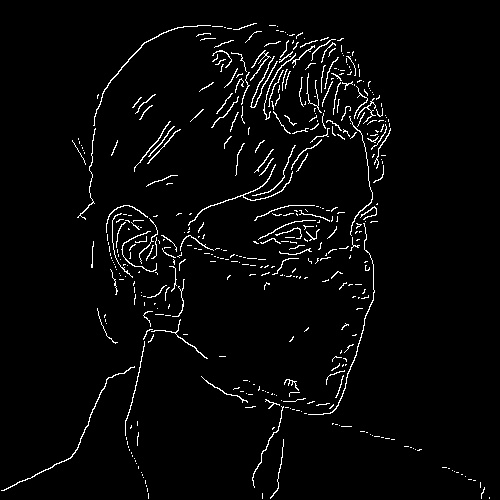mask: (174, 262, 374, 414)
